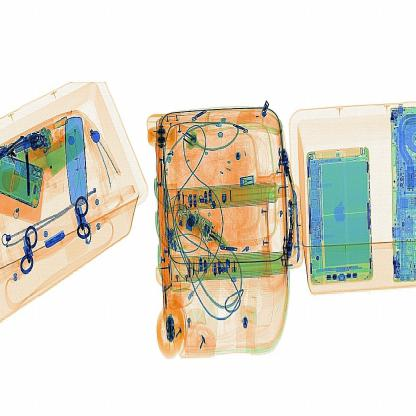knife: (17, 144, 44, 207)
